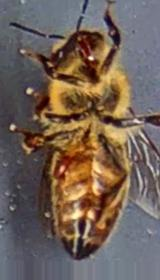varroa_mite: (37, 144, 78, 180)
